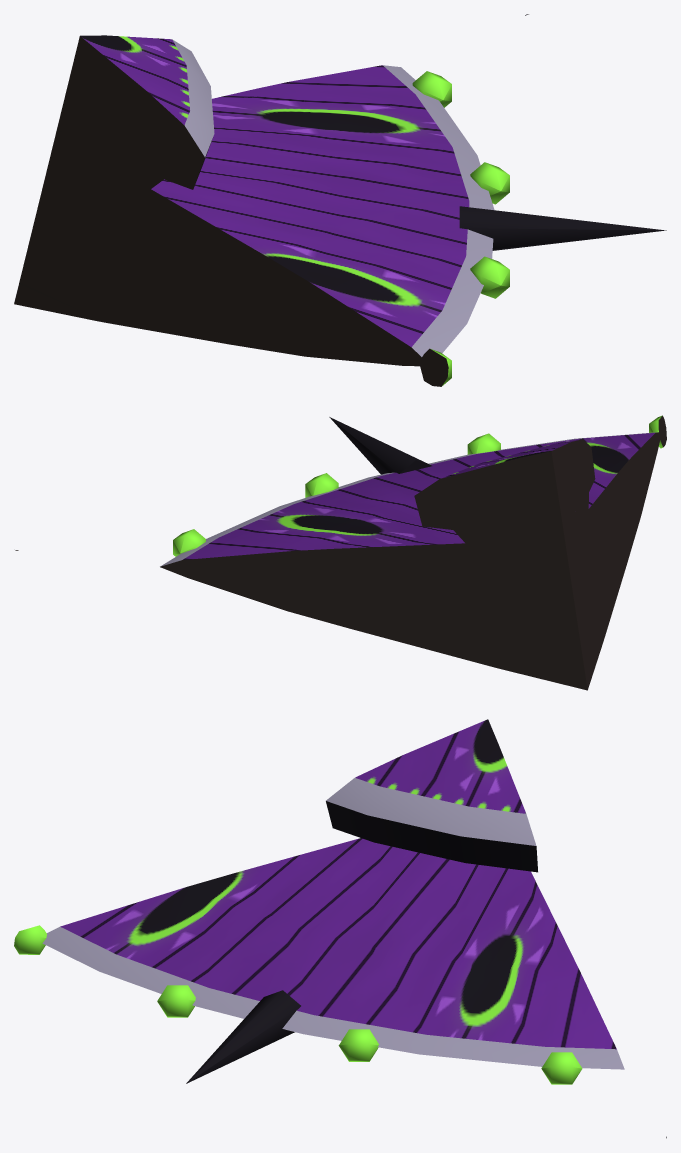
File: dreadnought_debris3.obj
The picture shows the model from 3 angles, top to bottom: view 1: azimuth 30°, elevation 25°; view 2: azimuth 150°, elevation 25°; view 3: azimuth 270°, elevation 25°; orthographic projection. The views are drawn at different scales.
Parts seen in each view (by area): view 1: tier1, tier2, rim_spike, rim_light; view 2: tier1, tier2, rim_light, rim_spike; view 3: tier1, tier2, rim_light, rim_spike.
Boxes of the visible parts, box(x1,y1,x2,y2) form: tier1: box(14, 65, 494, 366); tier2: box(56, 35, 214, 189); rim_spike: box(459, 14, 666, 250); rim_light: box(412, 71, 509, 386); tier1: box(160, 432, 661, 690); tier2: box(414, 439, 595, 539); rim_light: box(173, 415, 666, 556); rim_spike: box(15, 417, 431, 550); tier1: box(42, 838, 624, 1069); tier2: box(326, 719, 537, 872); rim_light: box(14, 925, 582, 1084); rim_spike: box(186, 990, 666, 1138).
Size of the model in its own units: 28.38 by 11.91 by 28.49.
Materials: 5 (1 with a texture image).
